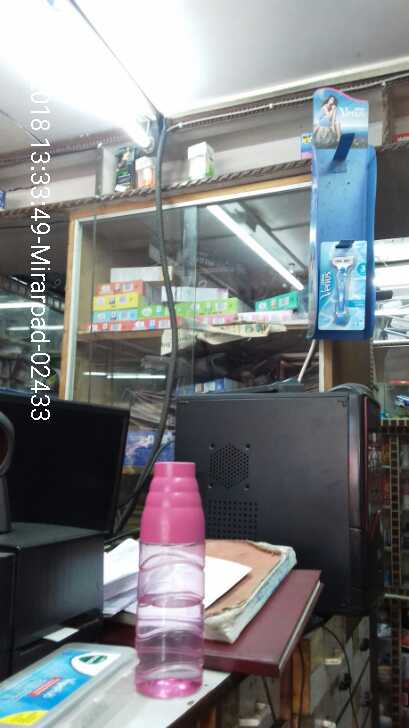venus: (319, 226, 365, 331)
